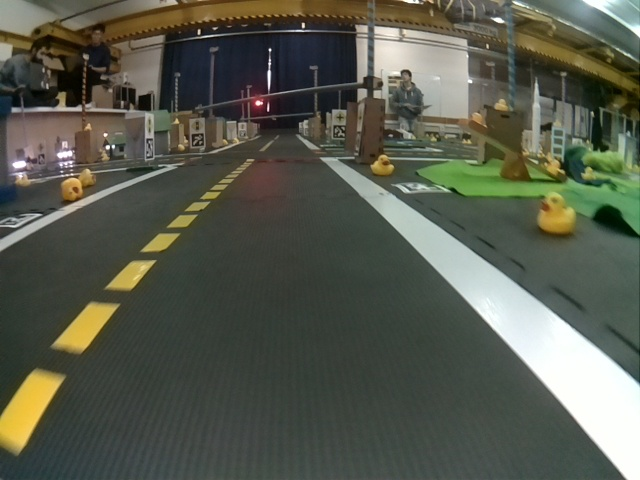Duckie: (538, 193, 574, 234), (62, 178, 82, 200), (370, 155, 392, 174), (80, 169, 96, 185)
Intersection sign: (335, 113, 344, 123)
QR code: (1, 213, 42, 227), (145, 138, 155, 158), (191, 134, 203, 146), (334, 127, 344, 137)
Signal sign: (148, 117, 154, 135), (192, 120, 201, 131)
Traffic light: (254, 95, 261, 107)
